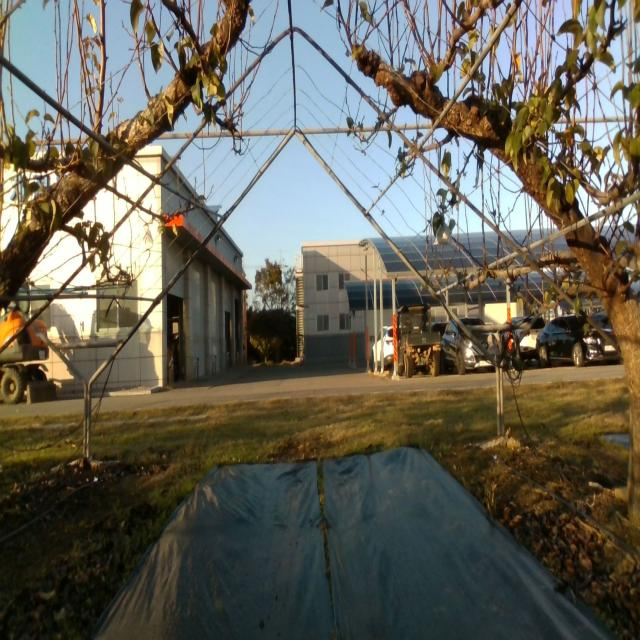pearbags: (433, 222, 454, 248), (140, 228, 153, 254)
